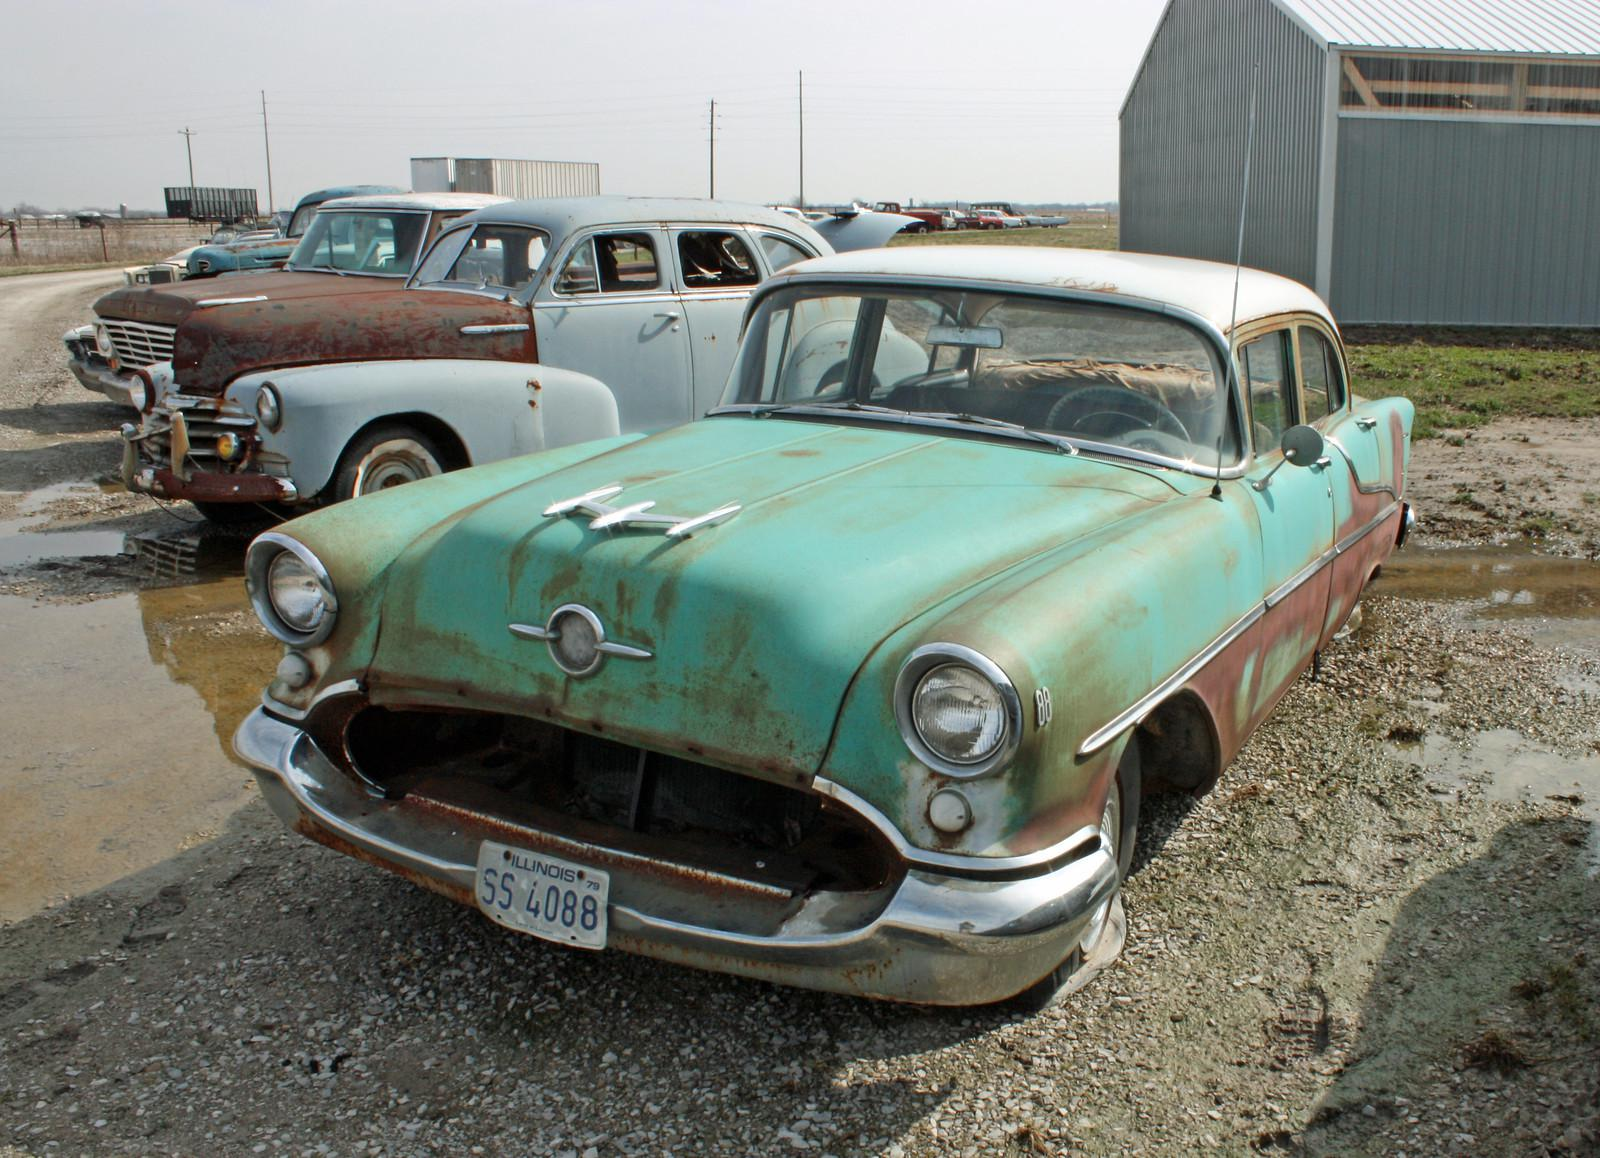quaterpanel-dent: (318, 673, 894, 946)
